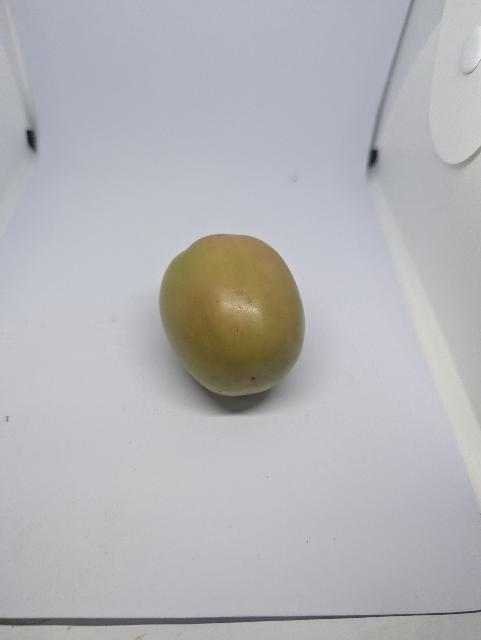breaker: (158, 228, 314, 408)
